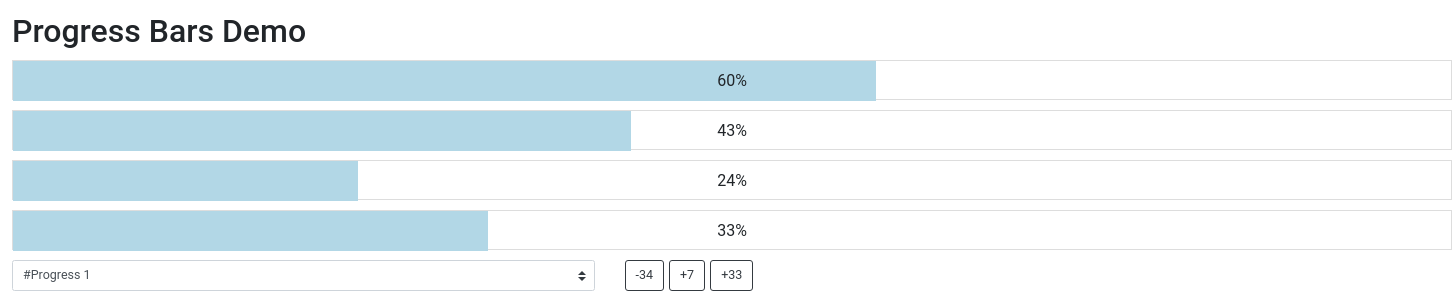
ProgressBarsChart container intergation test cases › value below threshold value, porgress bar should have normal classname, while equal or above should have alert classname
Expected: the text with test id "bar-number" reads "60%", [717, 71, 747, 90]
Click the button with test id "step-btn" showing "+33" at (732, 276), box [710, 260, 753, 291]
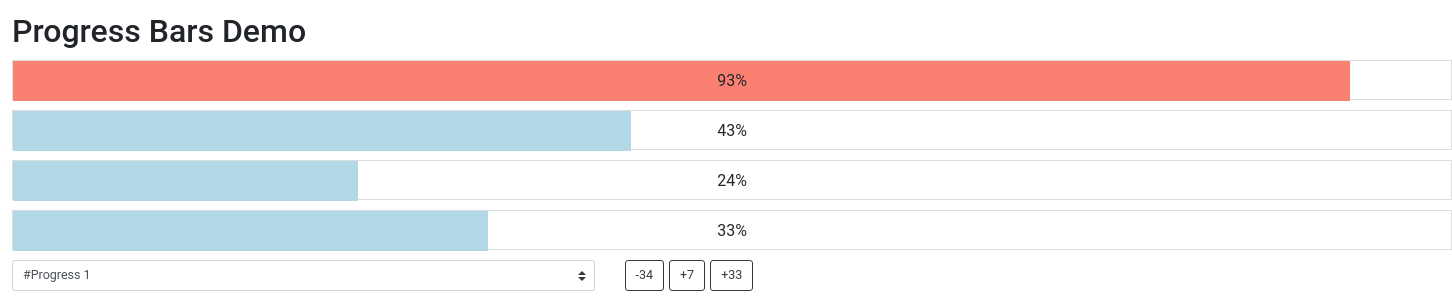
Expected: the text with test id "bar-number" reads "93%", [717, 71, 747, 90]
